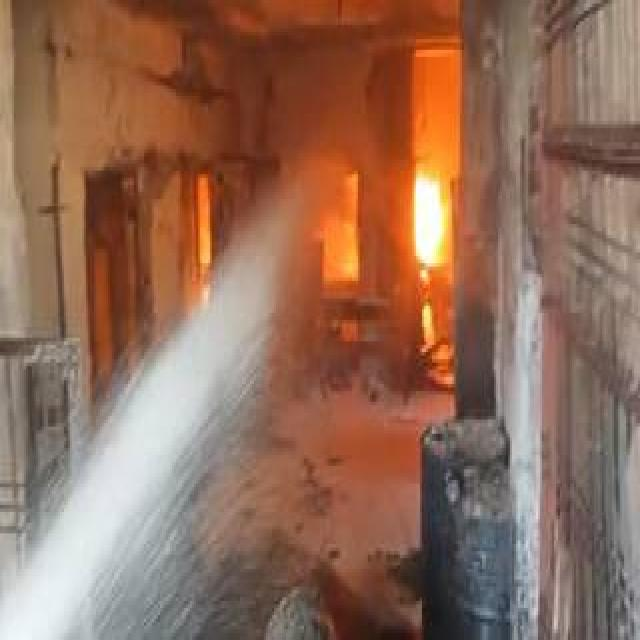fire: (415, 177, 445, 266)
